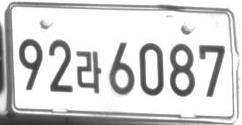0: (139, 42, 164, 96)
2: (48, 39, 73, 92)
6: (108, 42, 135, 95)
7: (198, 44, 225, 97)
8: (168, 43, 195, 97)
9: (18, 38, 43, 90)
라: (75, 50, 101, 93)
